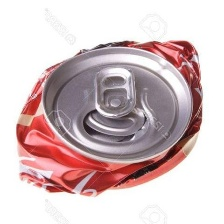can: (12, 37, 205, 208)
